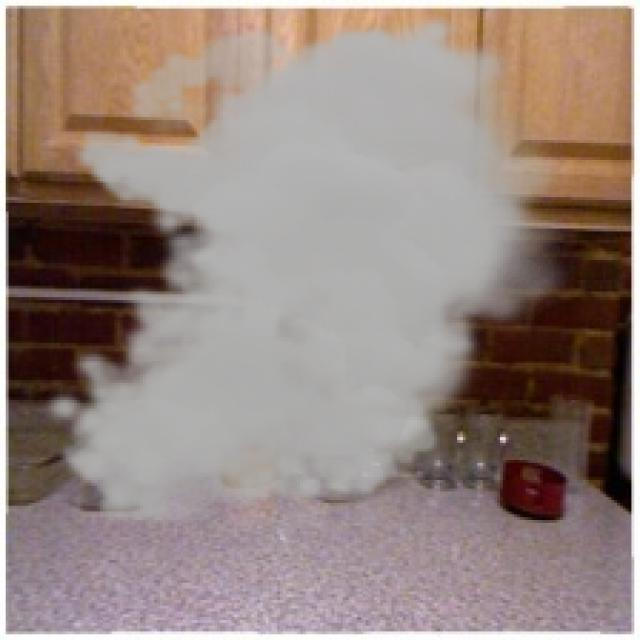smoke: (40, 11, 580, 528)
